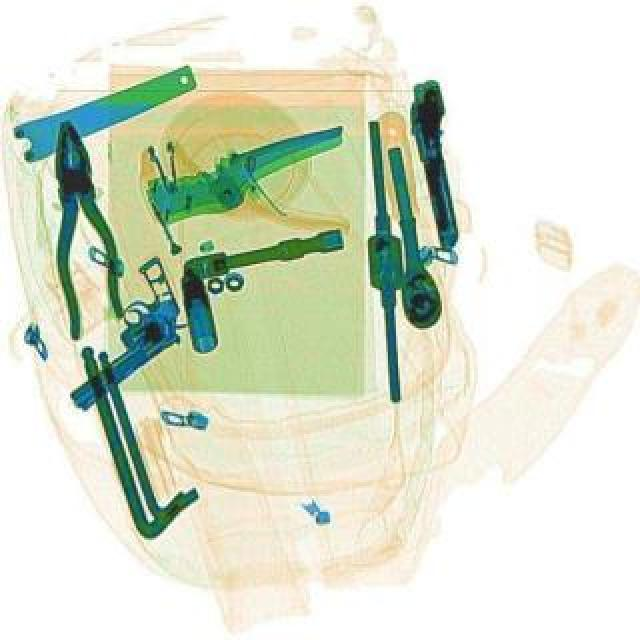gun: (22, 256, 212, 416), (396, 82, 480, 258)
wrench: (30, 120, 132, 346)
